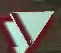Give way: (3, 7, 53, 51)
